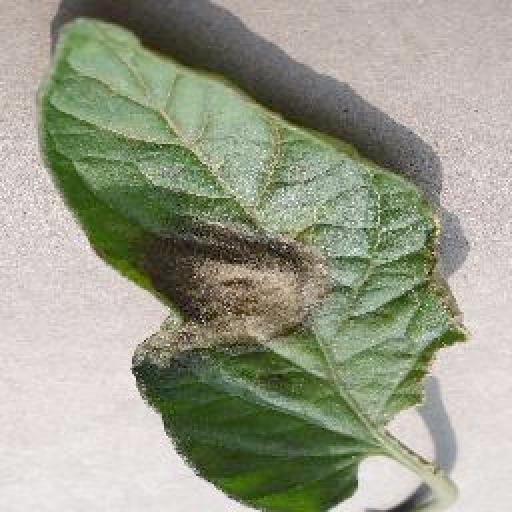disease_tomato: (38, 18, 470, 512)
